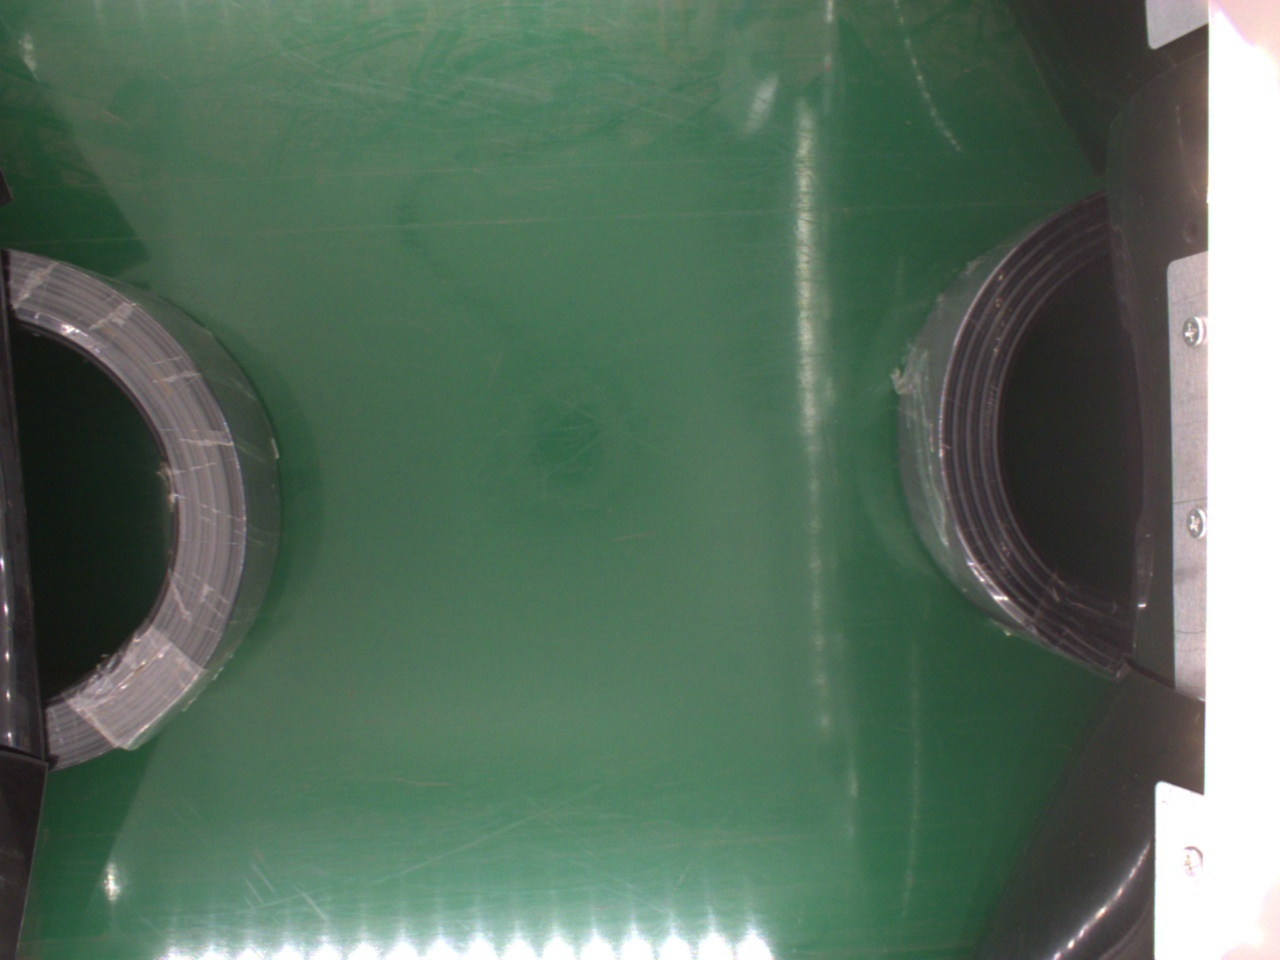black: (3, 246, 280, 774), (894, 190, 1148, 682)
